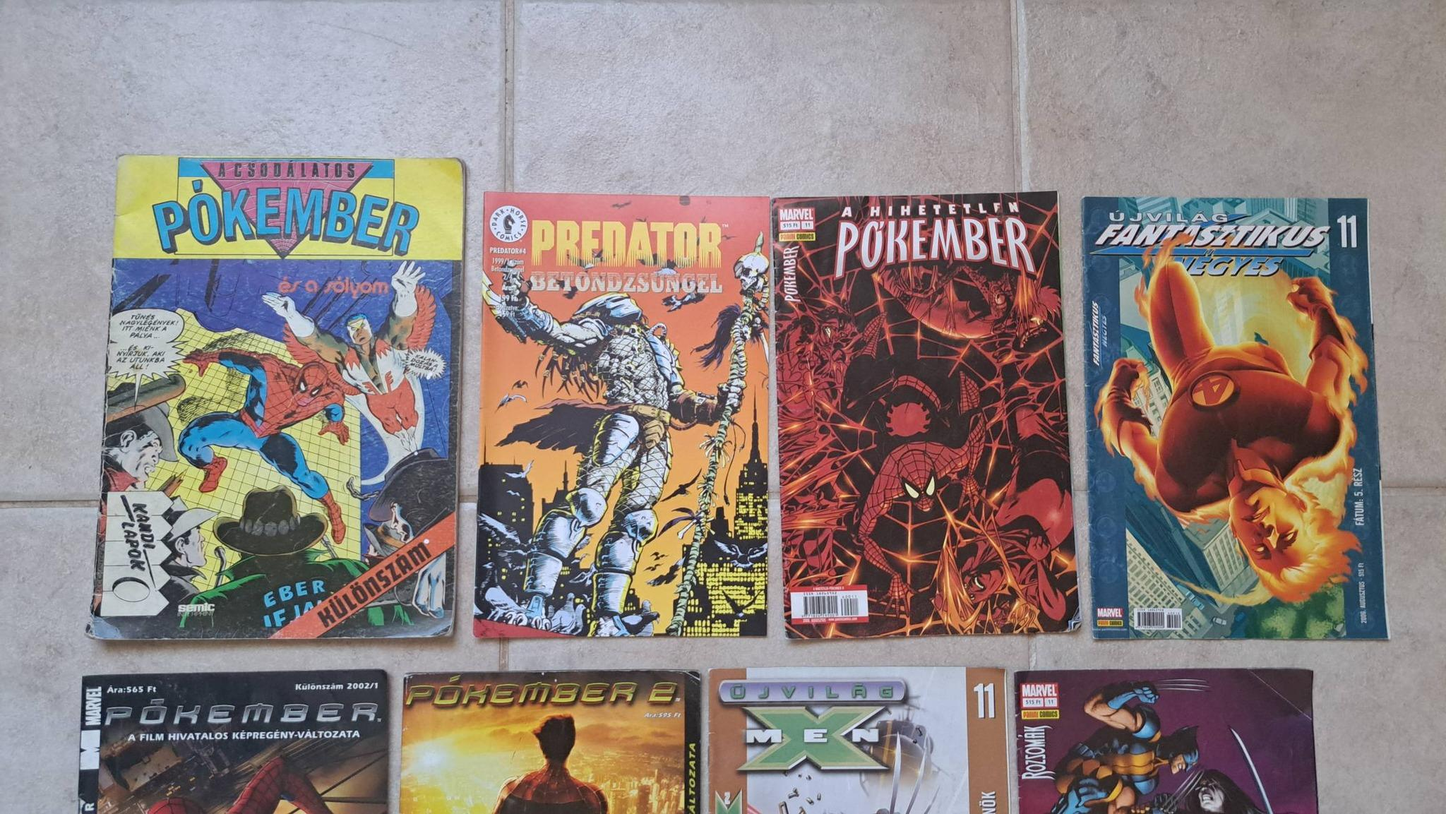comic: (90, 155, 463, 642), (769, 189, 1079, 640), (1080, 191, 1387, 646), (474, 191, 776, 643)
